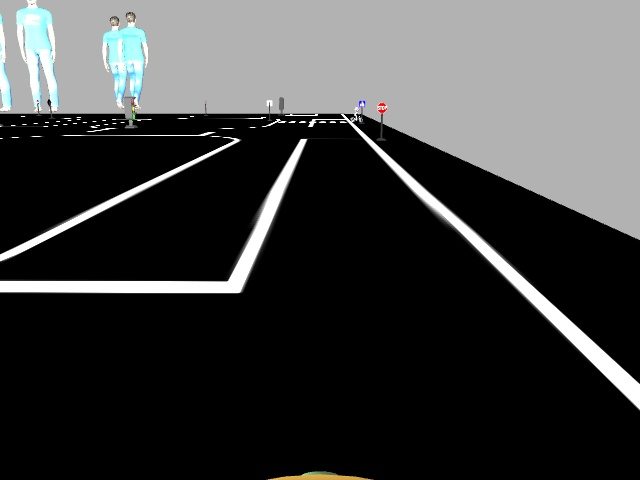Stop: (375, 101, 388, 114)
TrafficLight: (121, 95, 137, 120)
